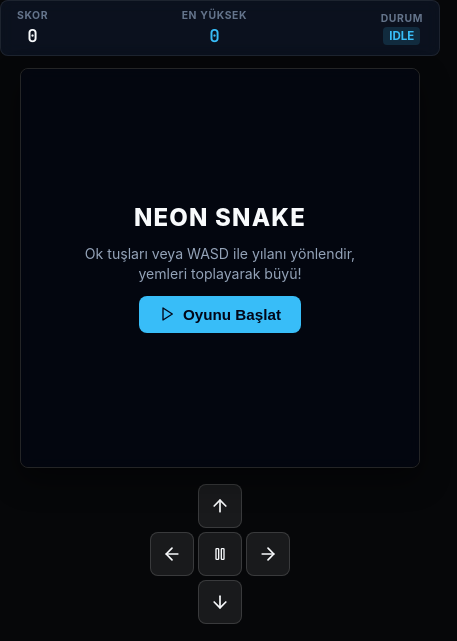
Test: SnakeGame › starts game when start button is clicked and plays sound
Click the button with test id "snake-start-btn" at (220, 314), box [139, 296, 301, 333]
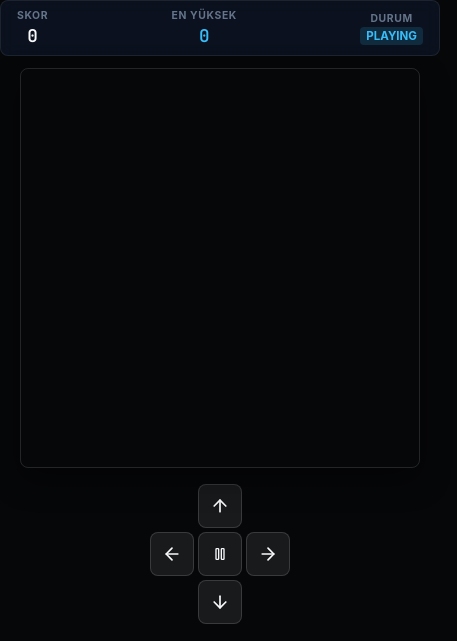
Expected: the button with test id "snake-start-btn" is gone
